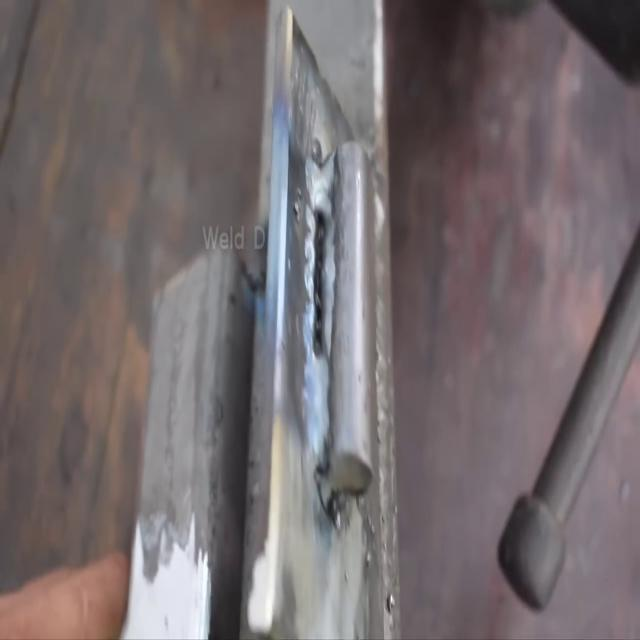Crack: (314, 211, 326, 356)
